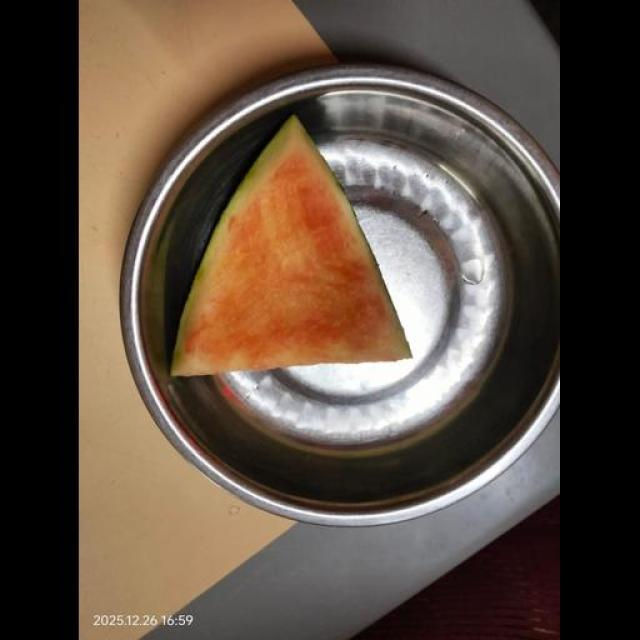organic: (193, 103, 435, 420)
